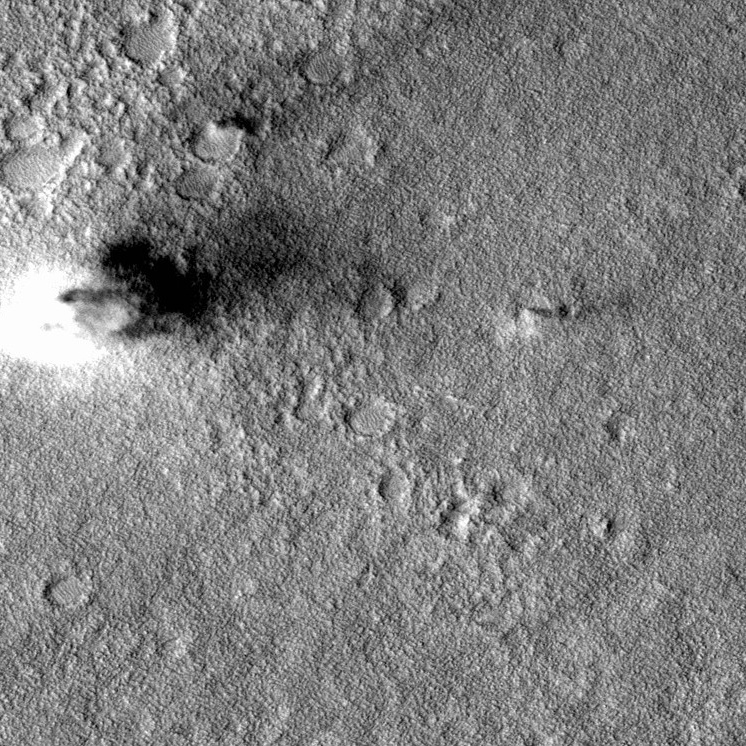dust_devil: (1, 183, 410, 374), (515, 305, 612, 337)
